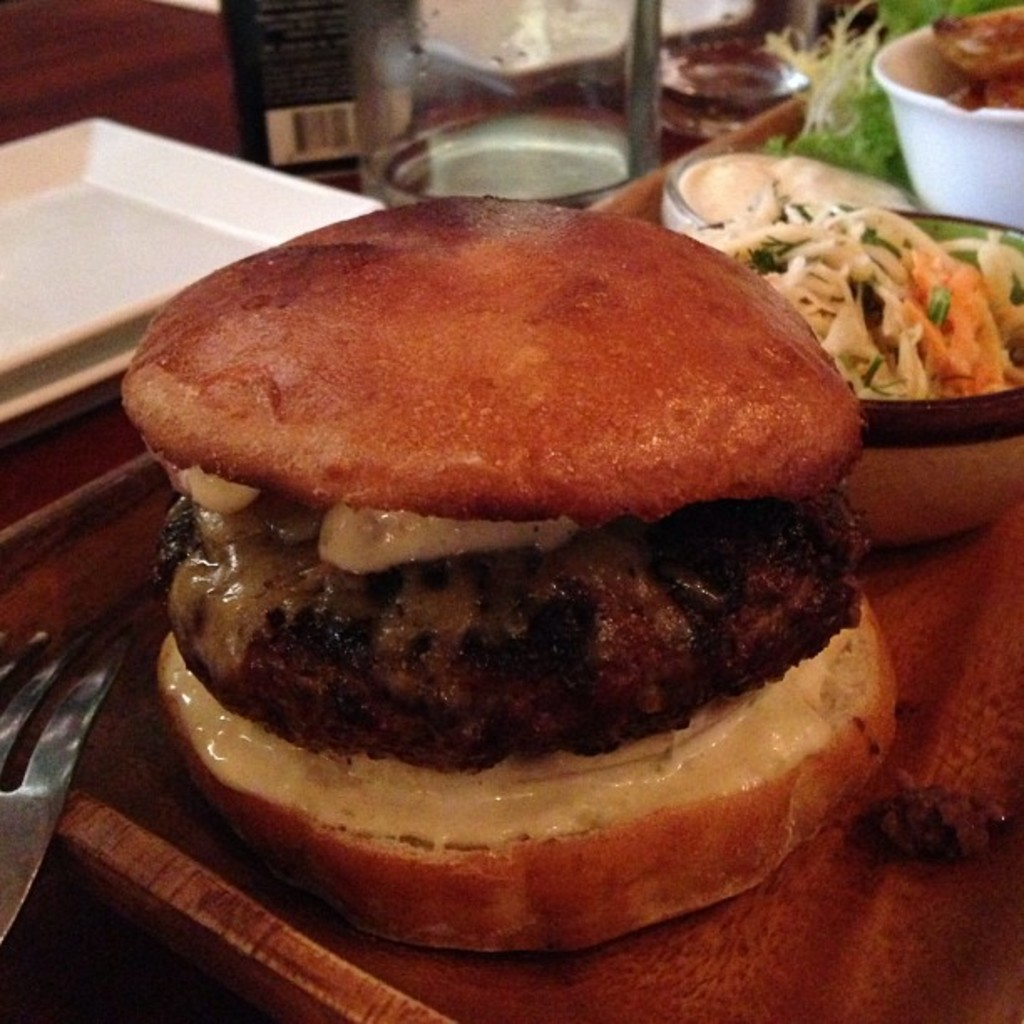Hamburger: (115, 192, 895, 955)
